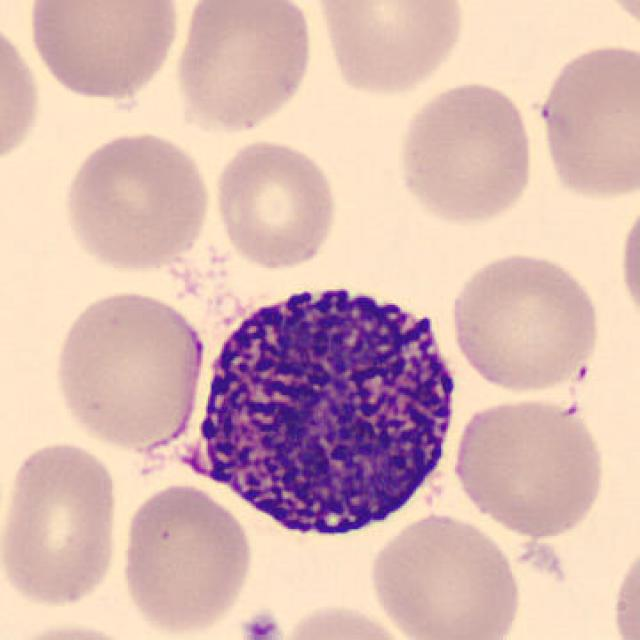Basophil: (171, 262, 471, 554)
Platelets: (238, 608, 286, 640)
RBC: (48, 286, 208, 451), (444, 247, 604, 397), (448, 393, 610, 541), (57, 127, 215, 273), (0, 436, 126, 614), (393, 78, 539, 228), (116, 482, 256, 636), (364, 509, 524, 640), (171, 0, 318, 138), (210, 136, 341, 272), (534, 39, 638, 206), (23, 0, 183, 102), (309, 0, 471, 99), (0, 12, 44, 174), (274, 599, 419, 640), (615, 192, 640, 332), (608, 534, 640, 640), (0, 619, 148, 640), (594, 0, 640, 42)
